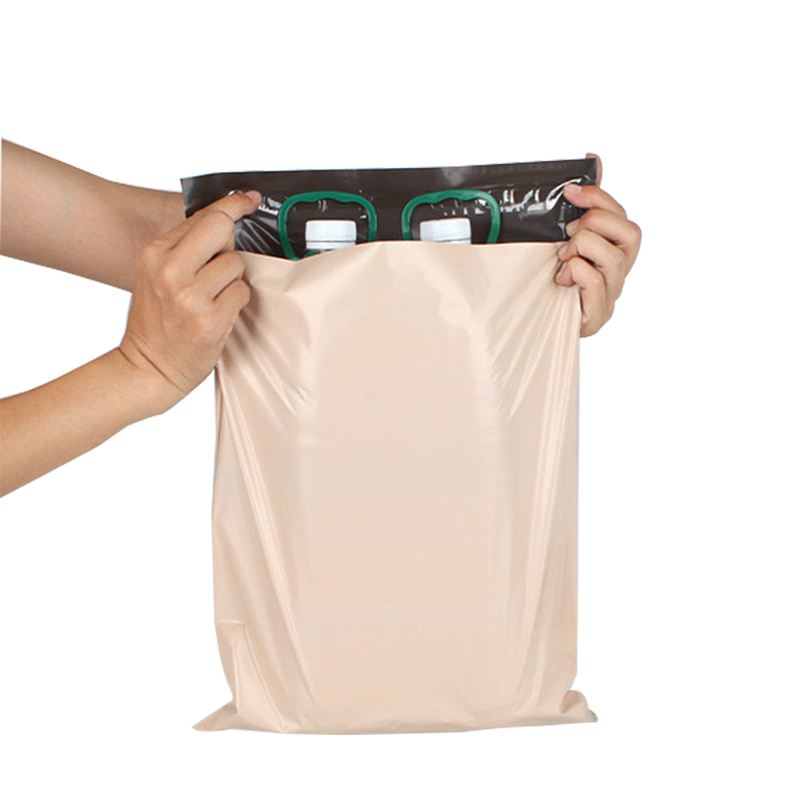Parcel: (182, 157, 602, 733)
